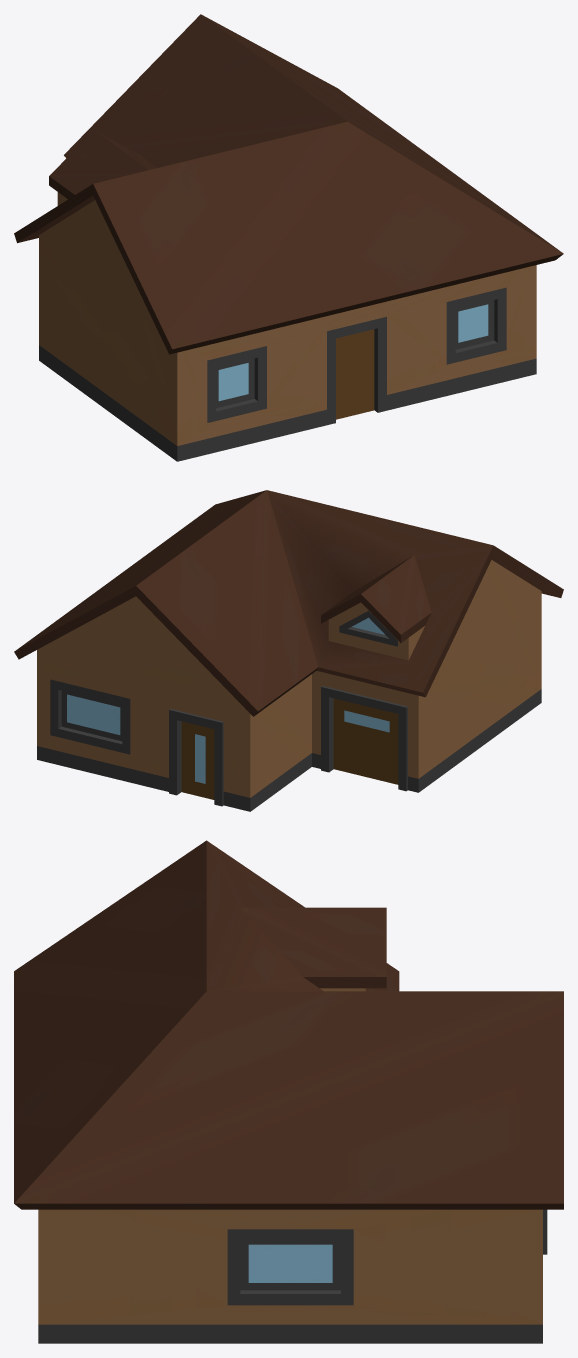
The model's file is house_type05.fbx.
3 renders of one model, top to bottom at view 1: azimuth 30°, elevation 25°; view 2: azimuth 150°, elevation 25°; view 3: azimuth 270°, elevation 25°, orthographic. The views are drawn at different scales.
Parts seen in each view (by area): view 1: house_type05; view 2: house_type05; view 3: house_type05.
Boxes of the visible parts, x1=… form: house_type05: x1=14, y1=14, x2=563, y2=461; house_type05: x1=14, y1=490, x2=563, y2=811; house_type05: x1=14, y1=840, x2=563, y2=1343.
Size of the model in its own units: 13.08 by 7.38 by 13.08.
Materials: 1 (1 with a texture image).
